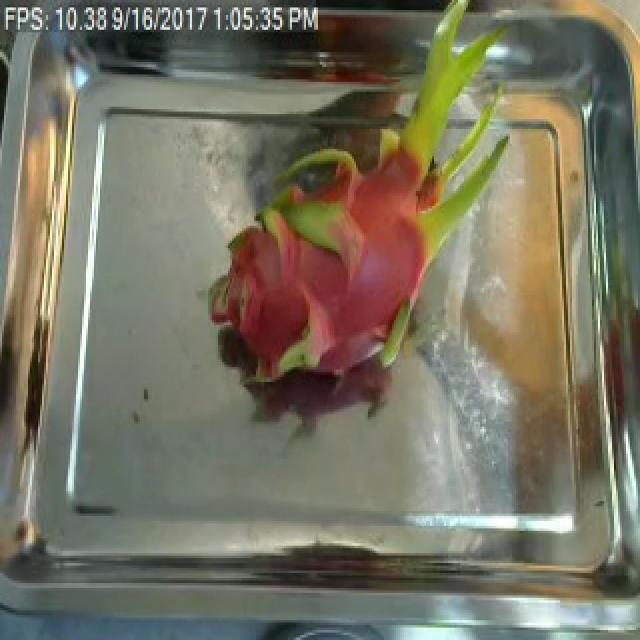fruit: (194, 62, 532, 419)
